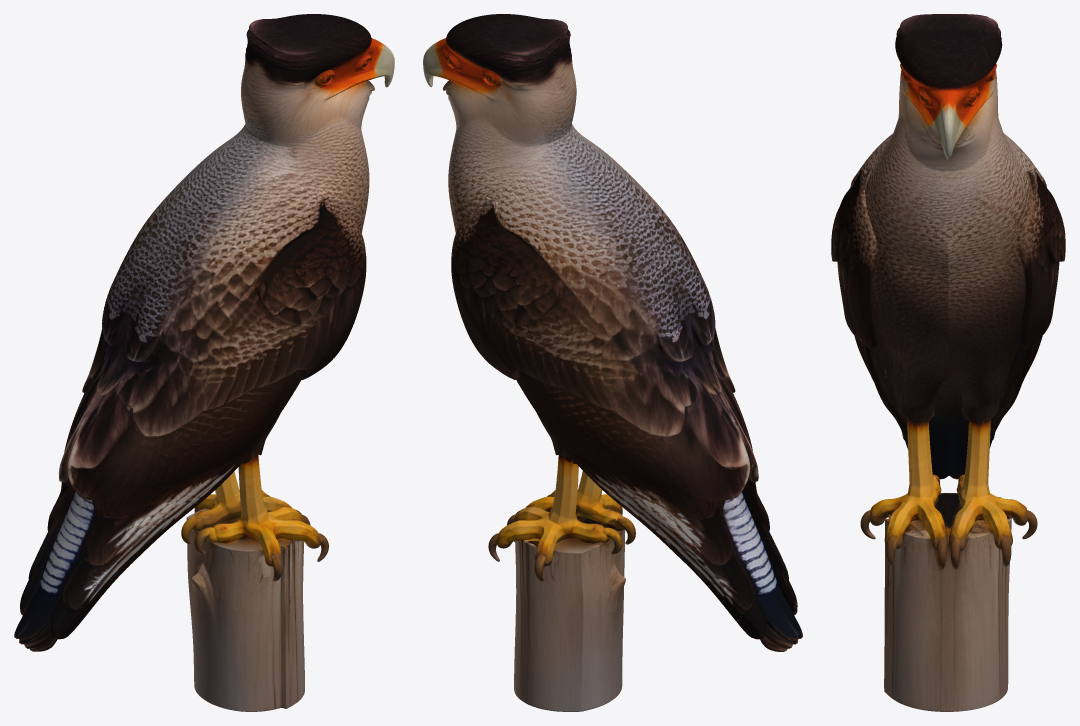
Rendered from nm__caracara.glb.
3 renders of one model, left to right at view 1: azimuth 30°, elevation 25°; view 2: azimuth 150°, elevation 25°; view 3: azimuth 270°, elevation 25°, orthographic. The views are drawn at different scales.
Visible parts, largest first — view 1: Object_2, Object_3; view 2: Object_2, Object_3; view 3: Object_2, Object_3.
Part boxes in pixels (bbox=[...]): Object_2: bbox=[14, 14, 394, 708]; Object_3: bbox=[33, 48, 369, 711]; Object_2: bbox=[423, 14, 802, 711]; Object_3: bbox=[436, 53, 798, 711]; Object_2: bbox=[837, 14, 1065, 711]; Object_3: bbox=[831, 45, 1037, 707].
Size of the model in its own units: 0.3587 by 0.5881 by 0.1829.
Materials: 1 (1 with a texture image).
